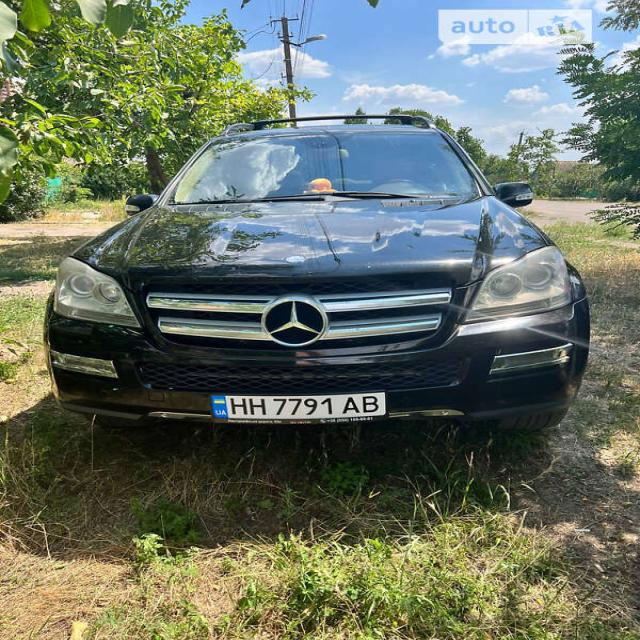plate: (200, 385, 402, 428)
